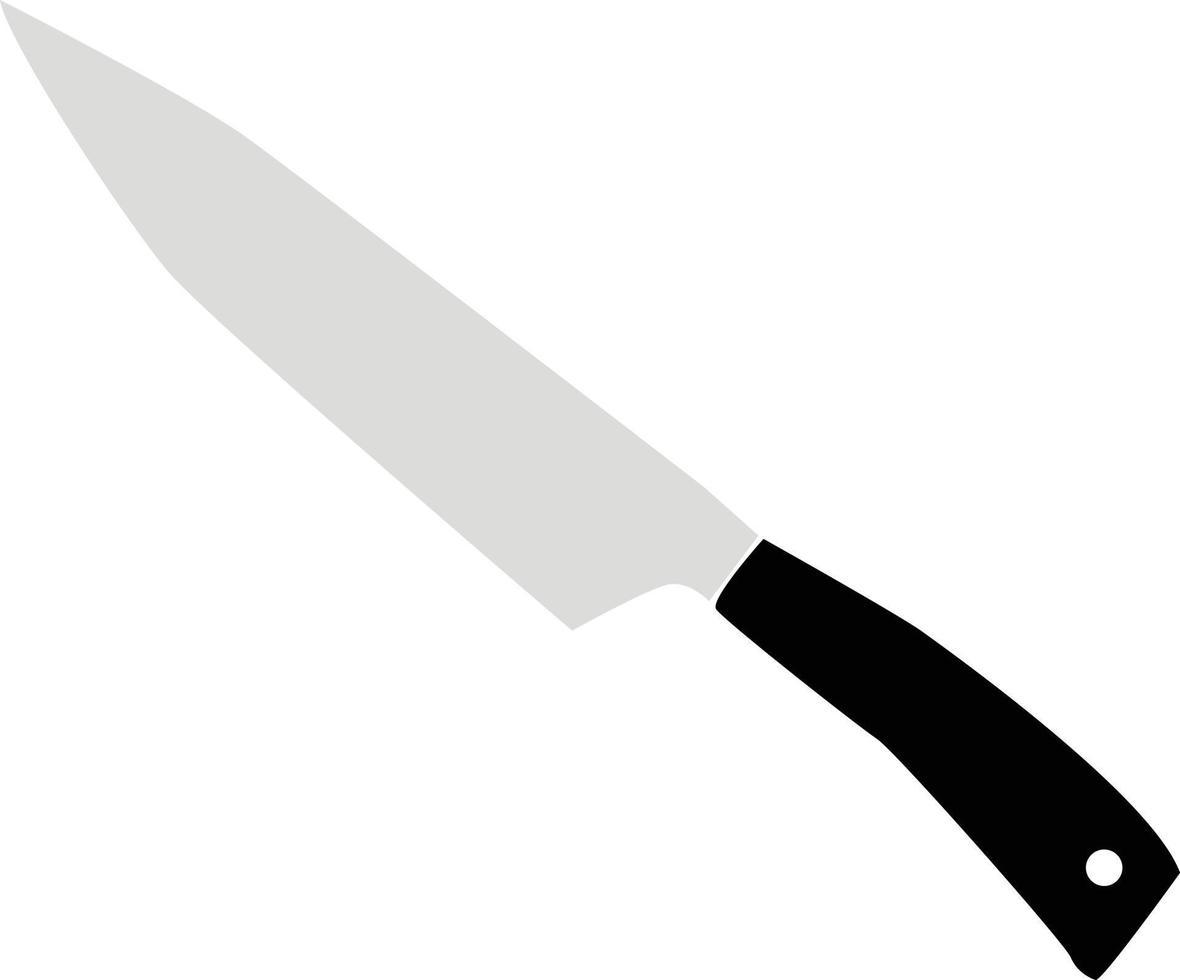Knife: (2, 2, 1177, 975)
